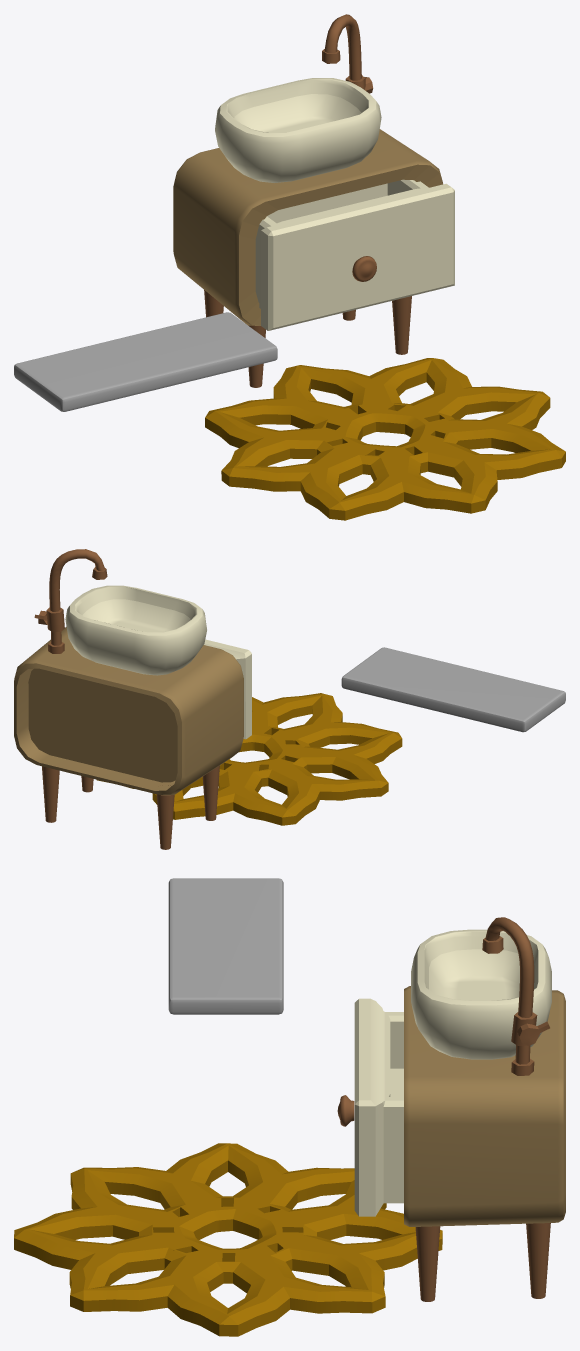
File: UVMap01.fbx
3 renders of one model, top to bottom at view 1: azimuth 30°, elevation 25°; view 2: azimuth 150°, elevation 25°; view 3: azimuth 270°, elevation 25°, orthographic. The views are drawn at different scales.
Parts seen in each view (by area): view 1: Sink1, Rug, TubPlate; view 2: Sink1, Rug, TubPlate; view 3: Sink1, Rug, TubPlate.
Part boxes in pixels (x1,y1,x2,y2): Sink1: (173, 14, 454, 387); Rug: (205, 358, 565, 520); TubPlate: (14, 312, 277, 411); Sink1: (14, 549, 251, 849); Rug: (97, 693, 402, 825); TubPlate: (341, 647, 565, 732); Sink1: (337, 917, 565, 1301); Rug: (14, 1143, 442, 1336); TubPlate: (168, 878, 283, 1014).
Size of the model in its own units: 5.92 by 3.54 by 4.8.
